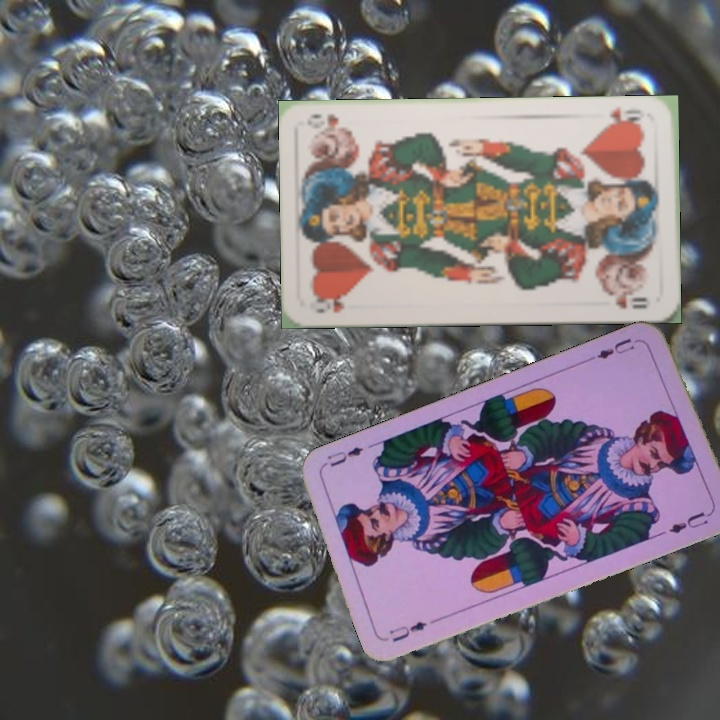EU: (586, 334, 644, 363), (385, 617, 429, 645)
HO: (599, 103, 647, 130), (308, 292, 352, 316)
